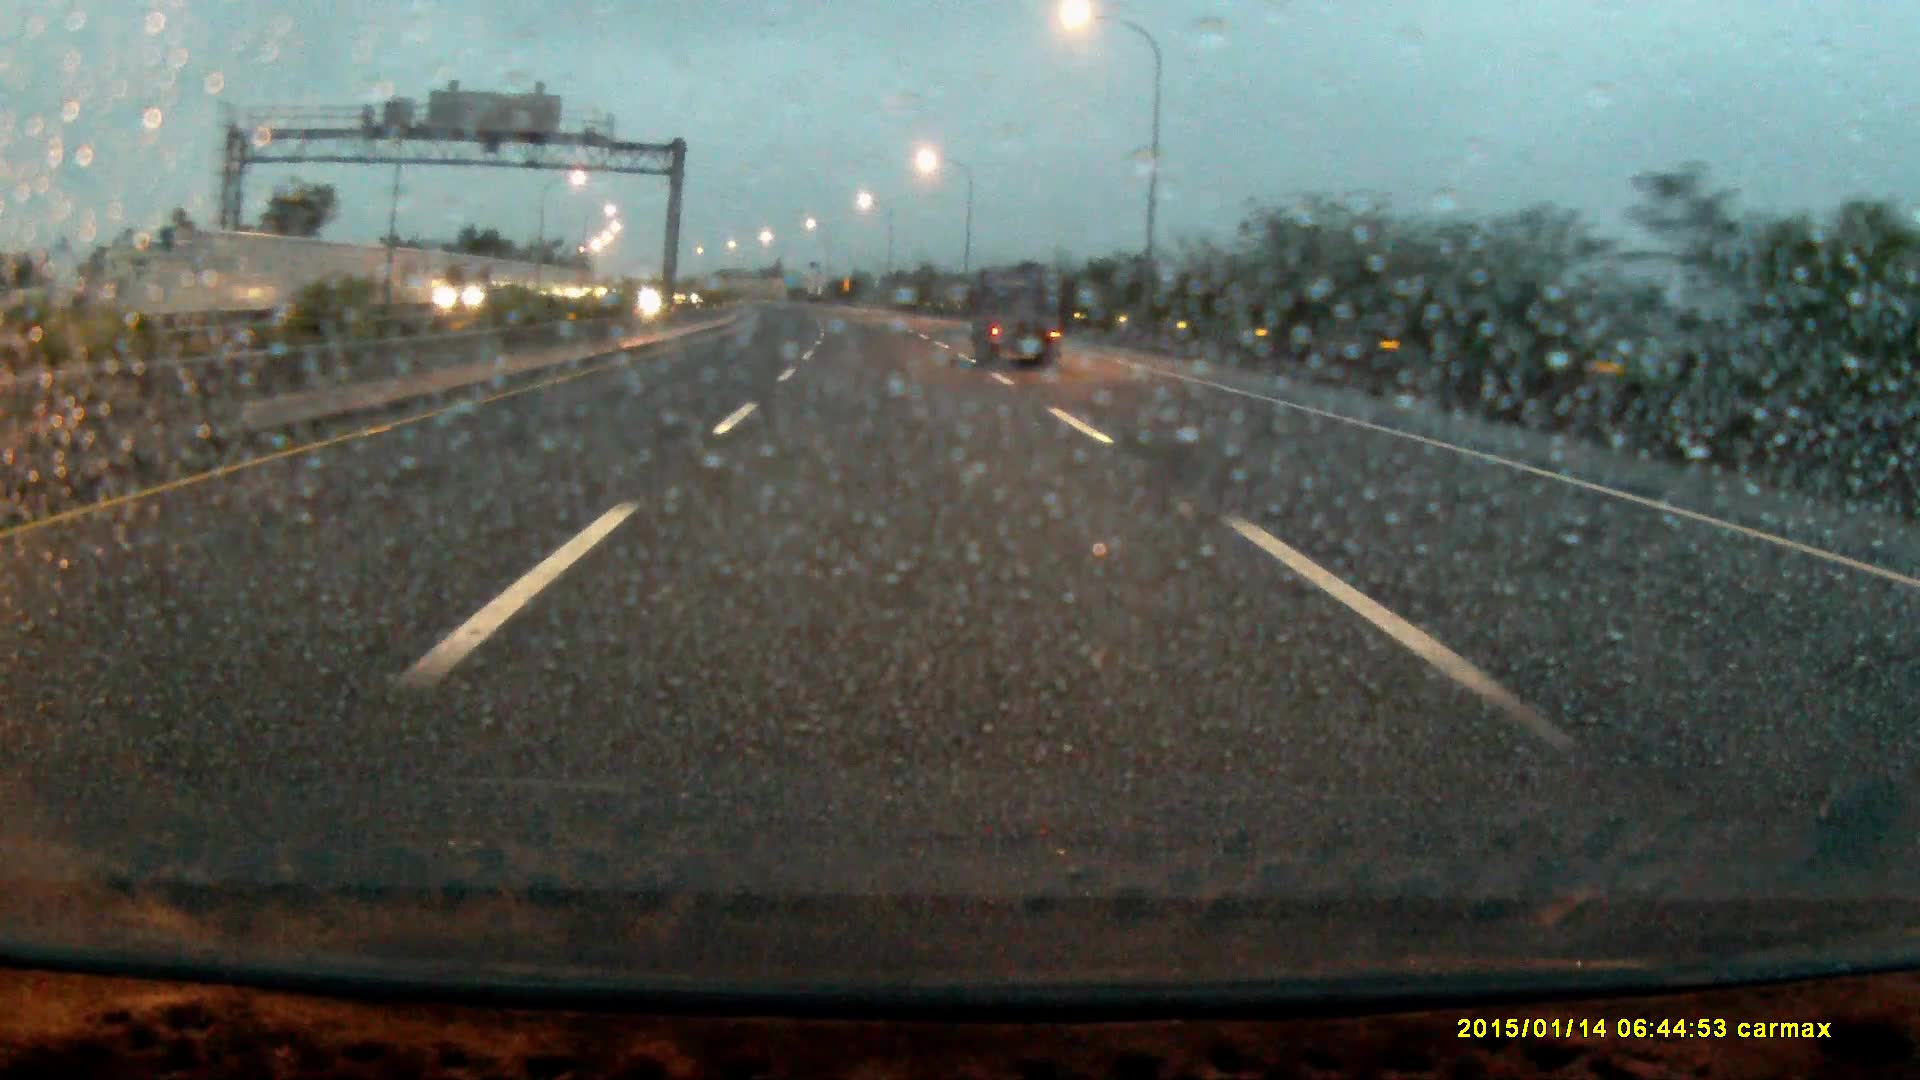vehicle: (975, 269, 1062, 365), (436, 258, 534, 316)
